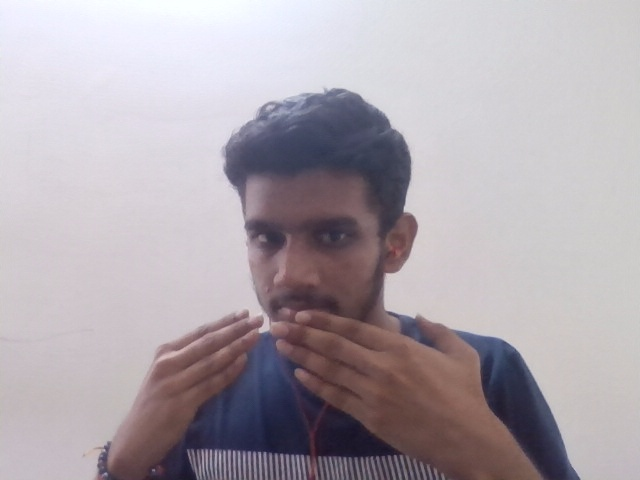thanks: (119, 281, 504, 469)
